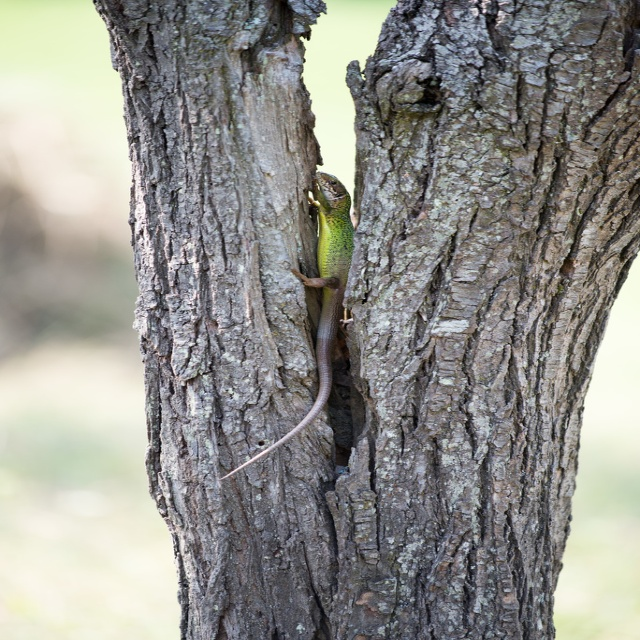Lizard: (239, 159, 387, 504)
